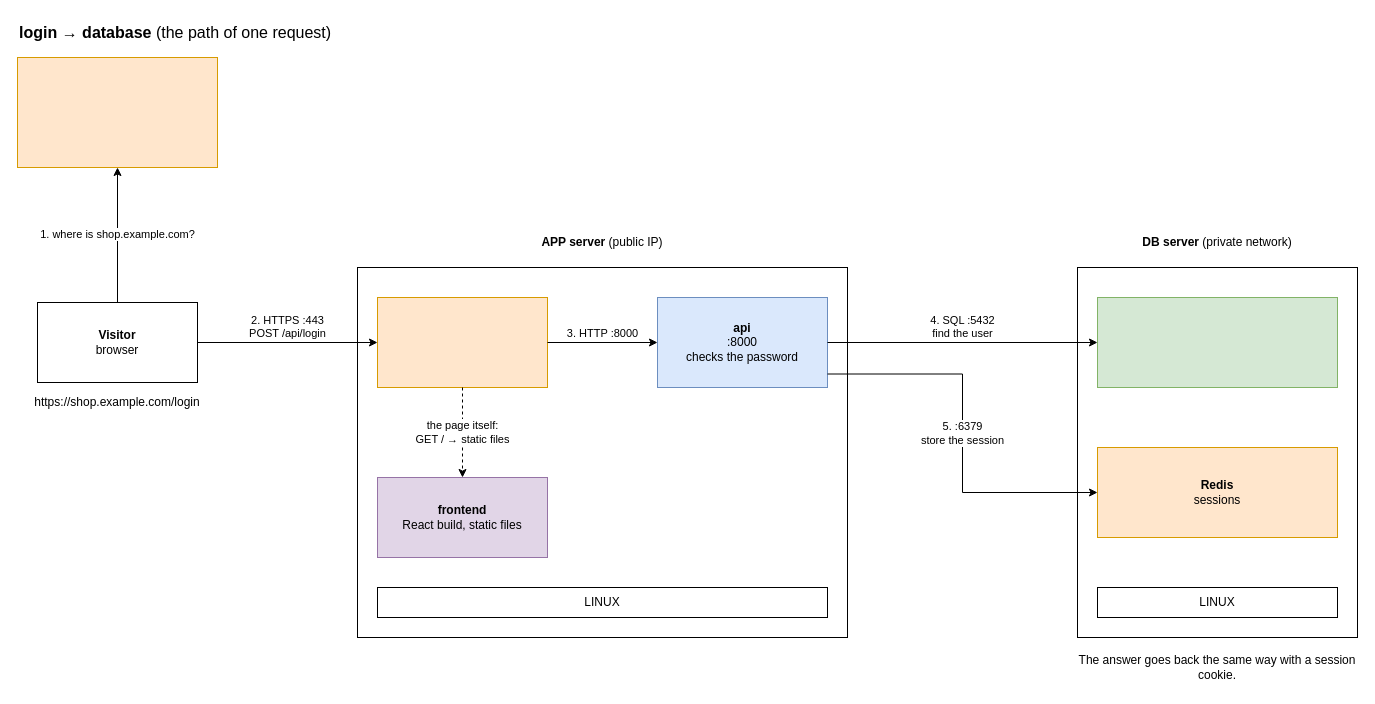
Some shapes in this 1375 by 704 pixel diagram are drawn without their labels. The shapes that lost their labels are listed below. From the top down, each one's centre as x and y in pixels, then its label:
At (x=117, y=112): "DNS of shop.example.com A @ → APP server IP".
At (x=462, y=342): "Nginx :443 ends TLS".
At (x=1217, y=342): "Postgres users".
